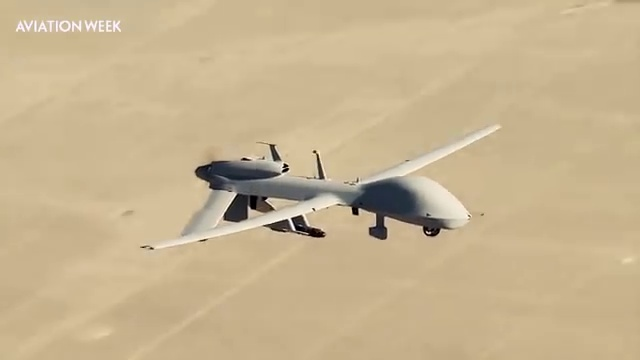military drone: (138, 123, 503, 250)
